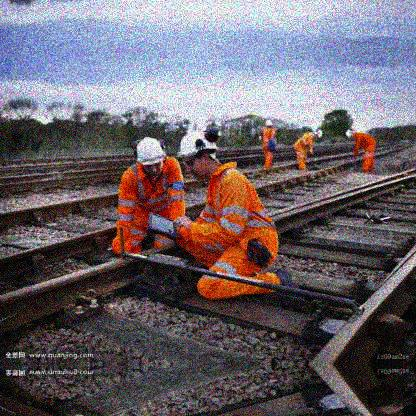helmet: (175, 129, 222, 181), (136, 136, 168, 176), (345, 129, 355, 139), (315, 129, 323, 138), (265, 120, 273, 127)
